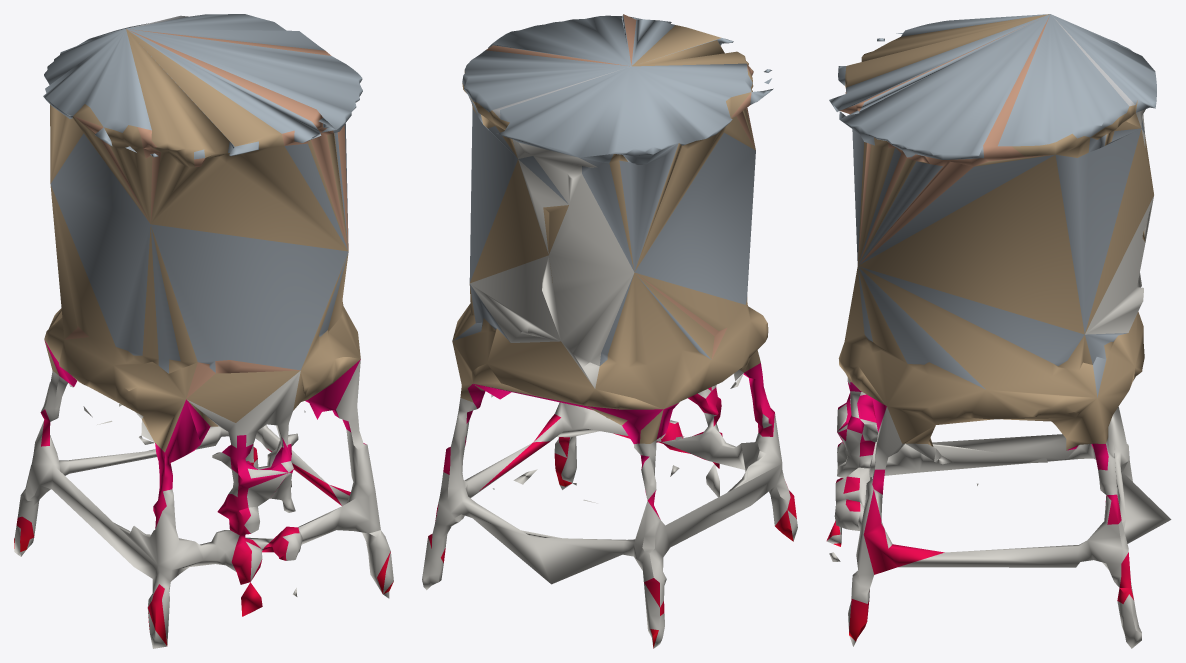
Rendered from wl_water_tower.glb.
3 views of the same model, side by side, from view 1: azimuth 30°, elevation 25°; view 2: azimuth 150°, elevation 25°; view 3: azimuth 270°, elevation 25° (orthographic). The views are drawn at different scales.
Visible parts, largest first — view 1: wl_water_tower; view 2: wl_water_tower; view 3: wl_water_tower.
Boxes of the visible parts, x1,y1,x2,y2 form: wl_water_tower: [14, 14, 393, 648]; wl_water_tower: [422, 14, 797, 648]; wl_water_tower: [826, 14, 1171, 648].
Bounding box in the file's own units: 4.54 × 8.86 × 5.02.
